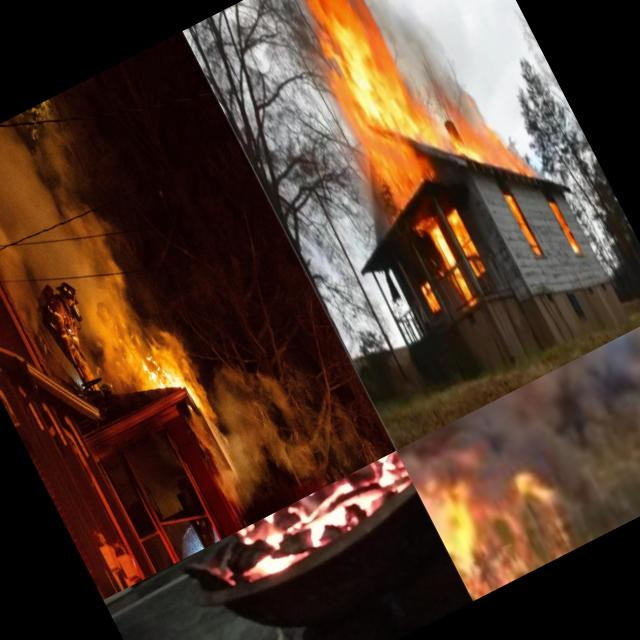fire: (417, 411, 629, 601), (276, 0, 460, 217), (444, 100, 536, 203), (417, 217, 478, 312), (147, 349, 212, 432), (504, 194, 548, 266), (546, 195, 586, 261), (411, 268, 443, 316)
smoke: (396, 335, 640, 487), (0, 100, 152, 337), (346, 0, 478, 125), (194, 349, 298, 493), (246, 350, 344, 494), (0, 128, 69, 306), (292, 356, 378, 476), (96, 302, 195, 382), (188, 414, 258, 512)
